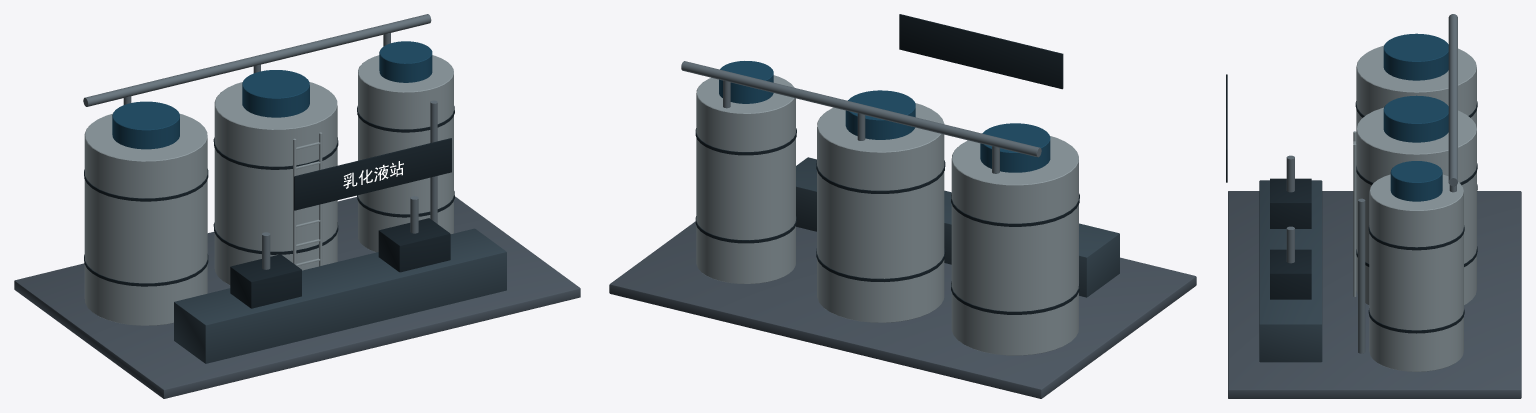
Rendered from emulsion_station_mo.glb.
The picture shows the model from 3 angles, left to right: view 1: azimuth 30°, elevation 25°; view 2: azimuth 150°, elevation 25°; view 3: azimuth 270°, elevation 25°; orthographic projection. The views are drawn at different scales.
Parts seen in each view (by area): view 1: Asset_emulsion_station; view 2: Asset_emulsion_station; view 3: Asset_emulsion_station.
Part boxes in pixels (x1=…): Asset_emulsion_station: x1=14, y1=14, x2=580, y2=398; Asset_emulsion_station: x1=609, y1=14, x2=1196, y2=398; Asset_emulsion_station: x1=1225, y1=14, x2=1521, y2=398.
Bounding box in the file's own units: 9 × 4.29 × 5.65.
